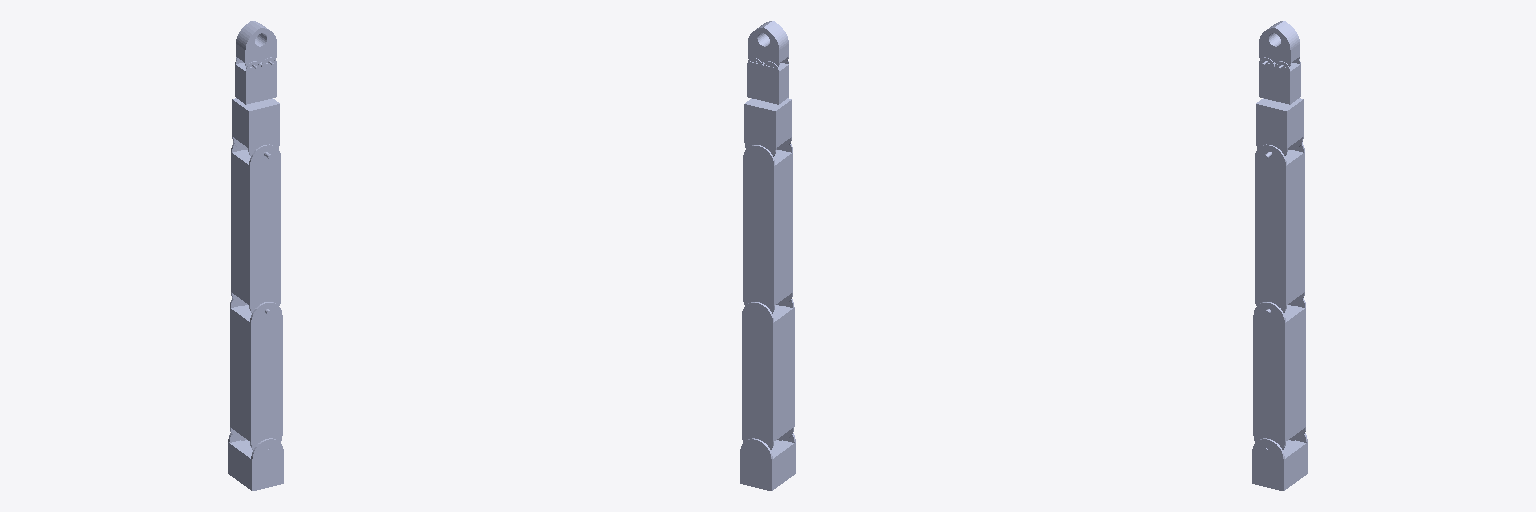
robot.urdf — colllarm:
<?xml version="1.0" encoding="utf-8"?>
<!-- This URDF was automatically created by SolidWorks to URDF Exporter! Originally created by [author] ([email redacted]) 
     Commit Version: 1.5.1-0-g916b5db  Build Version: 1.5.7152.31018
     For more information, please see http://wiki.ros.org/sw_urdf_exporter -->
<robot
  name="colllarm">
  <link
    name="base_link">
    <inertial>
      <origin
        xyz="4.1741E-36 0.0042472 -2.3296E-19"
        rpy="0 0 0" />
      <mass
        value="0.118" />
      <inertia
        ixx="0.00022082"
        ixy="-2.5519E-21"
        ixz="-3.3632E-38"
        iyy="0.00042194"
        iyz="2.248E-22"
        izz="0.00022082" />
    </inertial>
    <visual>
      <origin
        xyz="0 0 0"
        rpy="0 0 0" />
      <geometry>
        <mesh
          filename="package://colllarm/meshes/base_link.STL" />
      </geometry>
      <material
        name="">
        <color
          rgba="0.79216 0.81961 0.93333 1" />
      </material>
    </visual>
    <collision>
      <origin
        xyz="0 0 0"
        rpy="0 0 0" />
      <geometry>
        <mesh
          filename="package://colllarm/meshes/base_link.STL" />
      </geometry>
    </collision>
  </link>
  <link
    name="upbase_link">
    <inertial>
      <origin
        xyz="1.185E-17 0.039412 -1.0596E-05"
        rpy="0 0 0" />
      <mass
        value="0.59058" />
      <inertia
        ixx="0.00085911"
        ixy="4.8853E-20"
        ixz="-2.253E-20"
        iyy="0.0008286"
        iyz="-7.7406E-20"
        izz="0.00059494" />
    </inertial>
    <visual>
      <origin
        xyz="0 0 0"
        rpy="0 0 0" />
      <geometry>
        <mesh
          filename="package://colllarm/meshes/upbase_link.STL" />
      </geometry>
      <material
        name="">
        <color
          rgba="0.79216 0.81961 0.93333 1" />
      </material>
    </visual>
    <collision>
      <origin
        xyz="0 0 0"
        rpy="0 0 0" />
      <geometry>
        <mesh
          filename="package://colllarm/meshes/upbase_link.STL" />
      </geometry>
    </collision>
  </link>
  <joint
    name="upbase_joint"
    type="revolute">
    <origin
      xyz="0 0 0.025"
      rpy="1.5708 0 0" />
    <parent
      link="base_link" />
    <child
      link="upbase_link" />
    <axis
      xyz="0 1 0" />
    <limit
      lower="-1.57"
      upper="1.57"
      effort="5"
      velocity="0.5" />
  </joint>
  <link
    name="prox_link">
    <inertial>
      <origin
        xyz="-0.0381 -0.15653 0.04502"
        rpy="0 0 0" />
      <mass
        value="1.9456" />
      <inertia
        ixx="0.014446"
        ixy="-4.0564E-19"
        ixz="-1.3614E-19"
        iyy="0.0022969"
        iyz="2.3823E-19"
        izz="0.014015" />
    </inertial>
    <visual>
      <origin
        xyz="0 0 0"
        rpy="0 0 0" />
      <geometry>
        <mesh
          filename="package://colllarm/meshes/prox_link.STL" />
      </geometry>
      <material
        name="">
        <color
          rgba="0.79216 0.81961 0.93333 1" />
      </material>
    </visual>
    <collision>
      <origin
        xyz="0 0 0"
        rpy="0 0 0" />
      <geometry>
        <mesh
          filename="package://colllarm/meshes/prox_link.STL" />
      </geometry>
    </collision>
  </link>
  <joint
    name="prox_joint"
    type="revolute">
    <origin
      xyz="0.0381 0.044438 0.4314"
      rpy="1.5708 0 0" />
    <parent
      link="base_link" />
    <child
      link="prox_link" />
    <axis
      xyz="0 0 1" />
    <limit
      lower="-1.57"
      upper="1.57"
      effort="5"
      velocity="0.5" />
  </joint>
  <link
    name="distal_link">
    <inertial>
      <origin
        xyz="1.3718E-17 0.2007 0.00066865"
        rpy="0 0 0" />
      <mass
        value="2.0206" />
      <inertia
        ixx="0.019596"
        ixy="-3.1694E-19"
        ixz="-1.4063E-20"
        iyy="0.0020846"
        iyz="-3.9705E-20"
        izz="0.019451" />
    </inertial>
    <visual>
      <origin
        xyz="0 0 0"
        rpy="0 0 0" />
      <geometry>
        <mesh
          filename="package://colllarm/meshes/distal_link.STL" />
      </geometry>
      <material
        name="">
        <color
          rgba="0.79216 0.81961 0.93333 1" />
      </material>
    </visual>
    <collision>
      <origin
        xyz="0 0 0"
        rpy="0 0 0" />
      <geometry>
        <mesh
          filename="package://colllarm/meshes/distal_link.STL" />
      </geometry>
    </collision>
  </link>
  <joint
    name="distal_joint"
    type="revolute">
    <origin
      xyz="0 0 0.41235"
      rpy="1.5708 0 0" />
    <parent
      link="base_link" />
    <child
      link="distal_link" />
    <axis
      xyz="0 0 1" />
    <limit
      lower="-1.57"
      upper="1.57"
      effort="5"
      velocity="0.5" />
  </joint>
  <link
    name="wrist_link">
    <inertial>
      <origin
        xyz="3.3396E-18 0.079757 0.0012182"
        rpy="0 0 0" />
      <mass
        value="0.48493" />
      <inertia
        ixx="0.00059851"
        ixy="-9.8281E-20"
        ixz="-1.8489E-20"
        iyy="0.00043866"
        iyz="-1.6924E-20"
        izz="0.0006197" />
    </inertial>
    <visual>
      <origin
        xyz="0 0 0"
        rpy="0 0 0" />
      <geometry>
        <mesh
          filename="package://colllarm/meshes/wrist_link.STL" />
      </geometry>
      <material
        name="">
        <color
          rgba="0.79216 0.81961 0.93333 1" />
      </material>
    </visual>
    <collision>
      <origin
        xyz="0 0 0"
        rpy="0 0 0" />
      <geometry>
        <mesh
          filename="package://colllarm/meshes/wrist_link.STL" />
      </geometry>
    </collision>
  </link>
  <joint
    name="wrist_joint"
    type="revolute">
    <origin
      xyz="0 0 0.77425"
      rpy="1.5708 0 0" />
    <parent
      link="base_link" />
    <child
      link="wrist_link" />
    <axis
      xyz="0 0 1" />
    <limit
      lower="-1.57"
      upper="1.57"
      effort="5"
      velocity="0.5" />
  </joint>
  <link
    name="subfing_link">
    <inertial>
      <origin
        xyz="4.0484E-08 0.038827 -8.6736E-19"
        rpy="0 0 0" />
      <mass
        value="0.25544" />
      <inertia
        ixx="0.000173"
        ixy="-4.8498E-10"
        ixz="-1.1374E-21"
        iyy="0.0001701"
        iyz="-2.7126E-21"
        izz="0.00025541" />
    </inertial>
    <visual>
      <origin
        xyz="0 0 0"
        rpy="0 0 0" />
      <geometry>
        <mesh
          filename="package://colllarm/meshes/subfing_link.STL" />
      </geometry>
      <material
        name="">
        <color
          rgba="0.79216 0.81961 0.93333 1" />
      </material>
    </visual>
    <collision>
      <origin
        xyz="0 0 0"
        rpy="0 0 0" />
      <geometry>
        <mesh
          filename="package://colllarm/meshes/subfing_link.STL" />
      </geometry>
    </collision>
  </link>
  <joint
    name="subfing_link"
    type="revolute">
    <origin
      xyz="0 -0.0012182 0.90861"
      rpy="1.5708 0 0" />
    <parent
      link="base_link" />
    <child
      link="subfing_link" />
    <axis
      xyz="0 1 0" />
    <limit
      lower="-1.57"
      upper="1.57"
      effort="5"
      velocity="0.5" />
  </joint>
  <link
    name="finger1_link">
    <inertial>
      <origin
        xyz="-0.019322 -0.0023864 0.020103"
        rpy="0 0 0" />
      <mass
        value="0.082612" />
      <inertia
        ixx="4.4181E-05"
        ixy="-1.8224E-06"
        ixz="-2.7174E-12"
        iyy="2.0259E-05"
        iyz="8.9567E-12"
        izz="4.1119E-05" />
    </inertial>
    <visual>
      <origin
        xyz="0 0 0"
        rpy="0 0 0" />
      <geometry>
        <mesh
          filename="package://colllarm/meshes/finger1_link.STL" />
      </geometry>
      <material
        name="">
        <color
          rgba="0.79216 0.81961 0.93333 1" />
      </material>
    </visual>
    <collision>
      <origin
        xyz="0 0 0"
        rpy="0 0 0" />
      <geometry>
        <mesh
          filename="package://colllarm/meshes/finger1_link.STL" />
      </geometry>
    </collision>
  </link>
  <joint
    name="finger2_joint"
    type="prismatic">
    <origin
      xyz="0 0.018258 1.034"
      rpy="1.5708 0 0" />
    <parent
      link="base_link" />
    <child
      link="finger1_link" />
    <axis
      xyz="0 0 1" />
    <limit
      lower="-1.57"
      upper="1.57"
      effort="5"
      velocity="0.5" />
  </joint>
  <link
    name="finger2_link">
    <inertial>
      <origin
        xyz="4.1741E-36 0.0042472 -2.3296E-19"
        rpy="0 0 0" />
      <mass
        value="0.118" />
      <inertia
        ixx="0.00022082"
        ixy="-2.5519E-21"
        ixz="-3.3632E-38"
        iyy="0.00042194"
        iyz="2.248E-22"
        izz="0.00022082" />
    </inertial>
    <visual>
      <origin
        xyz="0 0 0"
        rpy="0 0 0" />
      <geometry>
        <mesh
          filename="package://colllarm/meshes/finger2_link.STL" />
      </geometry>
      <material
        name="">
        <color
          rgba="0.79216 0.81961 0.93333 1" />
      </material>
    </visual>
    <collision>
      <origin
        xyz="0 0 0"
        rpy="0 0 0" />
      <geometry>
        <mesh
          filename="package://colllarm/meshes/finger2_link.STL" />
      </geometry>
    </collision>
  </link>
  <joint
    name="finger2_joint"
    type="prismatic">
    <origin
      xyz="0.01905 -0.021742 1.034"
      rpy="1.5708 0 3.1416" />
    <parent
      link="base_link" />
    <child
      link="finger2_link" />
    <axis
      xyz="0 0 -1" />
    <limit
      lower="-1.57"
      upper="1.57"
      effort="5"
      velocity="0.5" />
  </joint>
</robot>

--- Facts derived from the render (not from the file) ---
Views: 3 orthographic renders of the robot side by side, from view 1: azimuth 30°, elevation 25°; view 2: azimuth 150°, elevation 25°; view 3: azimuth 330°, elevation 25°.
Model colllarm with 8 links and 7 joints (5 revolute, 2 prismatic), rooted at base_link, posed every joint at zero.
Links seen in each view (by area): view 1: distal_link, prox_link, upbase_link, wrist_link, subfing_link, finger1_link, finger2_link; view 2: distal_link, prox_link, upbase_link, wrist_link, subfing_link, finger1_link, finger2_link; view 3: distal_link, prox_link, upbase_link, wrist_link, subfing_link, finger2_link, finger1_link.
Link boxes in pixels (x1,y1,x2,y2): distal_link: (231,142,280,312); prox_link: (230,298,282,449); upbase_link: (228,433,283,490); wrist_link: (232,98,279,155); subfing_link: (235,57,276,104); finger1_link: (236,21,260,69); finger2_link: (253,21,276,65); distal_link: (743,144,792,313); prox_link: (742,299,794,449); upbase_link: (740,433,795,490); wrist_link: (744,98,791,156); subfing_link: (747,58,788,104); finger1_link: (764,21,788,67); finger2_link: (748,21,771,63); distal_link: (1255,142,1304,312); prox_link: (1253,298,1305,449); upbase_link: (1252,433,1307,490); wrist_link: (1256,98,1303,155); subfing_link: (1259,57,1300,104); finger2_link: (1275,21,1299,69); finger1_link: (1259,21,1282,65).
Bounding box of the posed robot: 0.0762 × 0.1114 × 1.05 m (x, y, z).
7 mesh visuals loaded from 8 distinct referenced files (7 binary STL); not drawn: 1 (reference not matched to a file when rendering).
